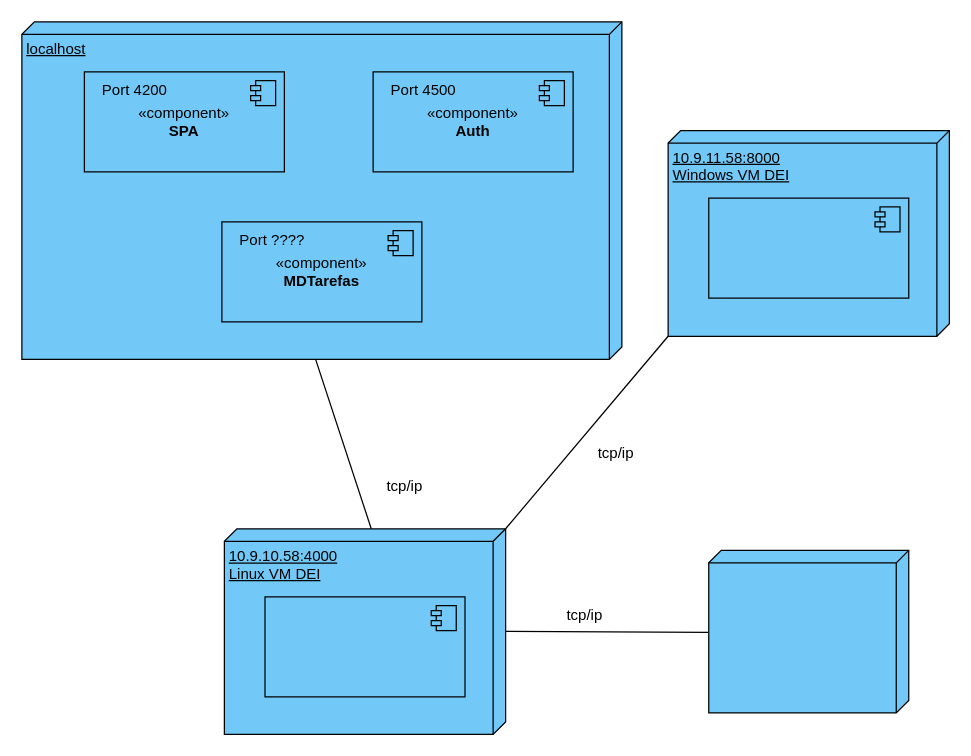
Image size: 971x756. Some labels were removed from this diagram. Here are the shapes that lost their labels. From the top down, the centre of each, then its label:
(x=808, y=247): «component» Planeamento
(x=364, y=646): «component» MDRoboISEP
(x=808, y=631): Database Atlas MongoDB
